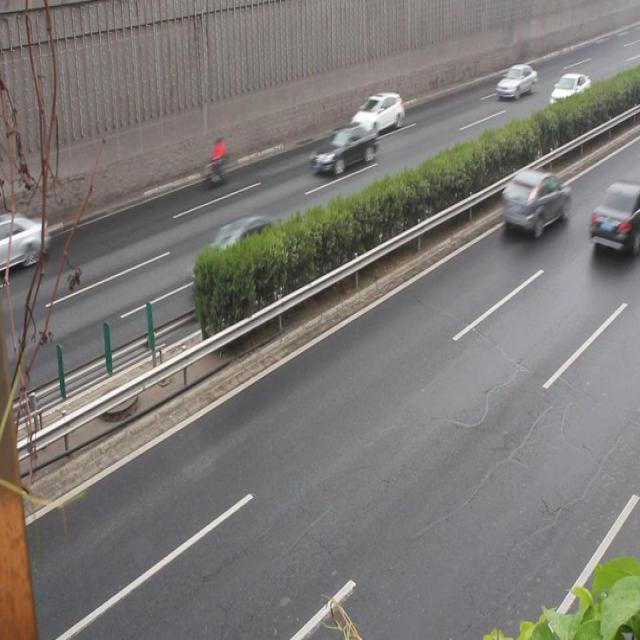car: (194, 213, 282, 288), (498, 170, 569, 233), (588, 178, 640, 262), (310, 122, 377, 180), (1, 211, 50, 270), (348, 91, 404, 139), (548, 71, 590, 113), (496, 64, 536, 102)
